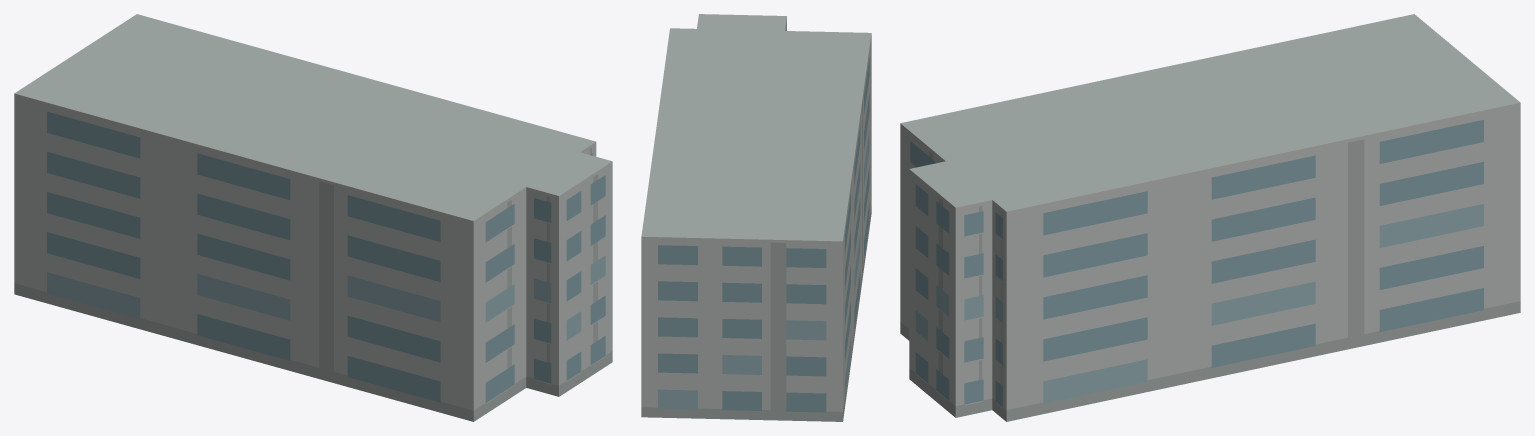
File: survey-upis-32797381.glb
3 views of the same model, side by side, from view 1: azimuth 30°, elevation 25°; view 2: azimuth 150°, elevation 25°; view 3: azimuth 270°, elevation 25° (orthographic). The views are drawn at different scales.
Parts seen in each view (by area): view 1: survey-upis-32797381.tmp; view 2: survey-upis-32797381.tmp; view 3: survey-upis-32797381.tmp.
Part boxes in pixels (<box>): survey-upis-32797381.tmp: <box>14,14,612,421</box>; survey-upis-32797381.tmp: <box>641,14,871,421</box>; survey-upis-32797381.tmp: <box>900,14,1520,421</box>.
Bounding box in the file's own units: 30.79 × 15.25 × 40.81.
